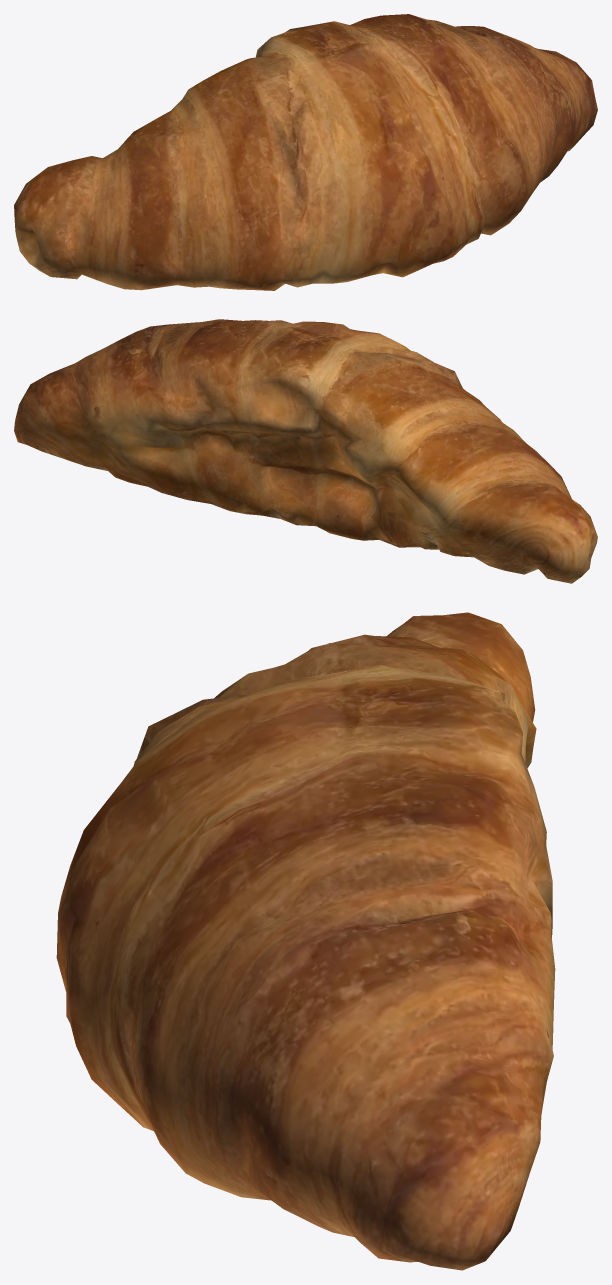
File: croissant.glb
The picture shows the model from 3 angles, top to bottom: view 1: azimuth 30°, elevation 25°; view 2: azimuth 150°, elevation 25°; view 3: azimuth 270°, elevation 25°; orthographic projection. The views are drawn at different scales.
Parts seen in each view (by area): view 1: croissant; view 2: croissant; view 3: croissant.
Boxes of the visible parts, box(x1,y1,x2,y2) form: croissant: box(14, 14, 597, 290); croissant: box(14, 319, 597, 583); croissant: box(56, 612, 555, 1270).
Size of the model in its own units: 0.2 by 0.062 by 0.0755.
1 material, 1 textured.
